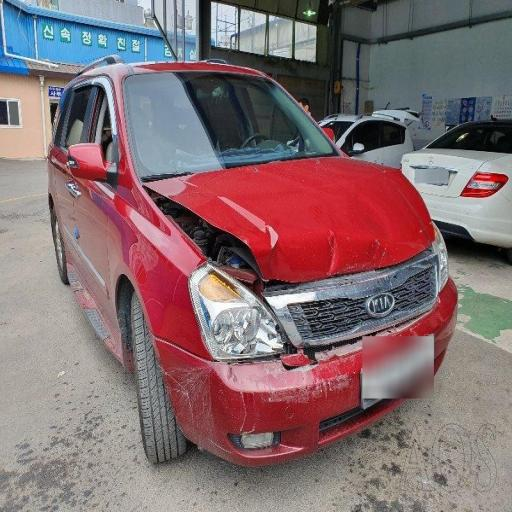dent: (155, 161, 393, 295)
scratch: (157, 336, 375, 448)
